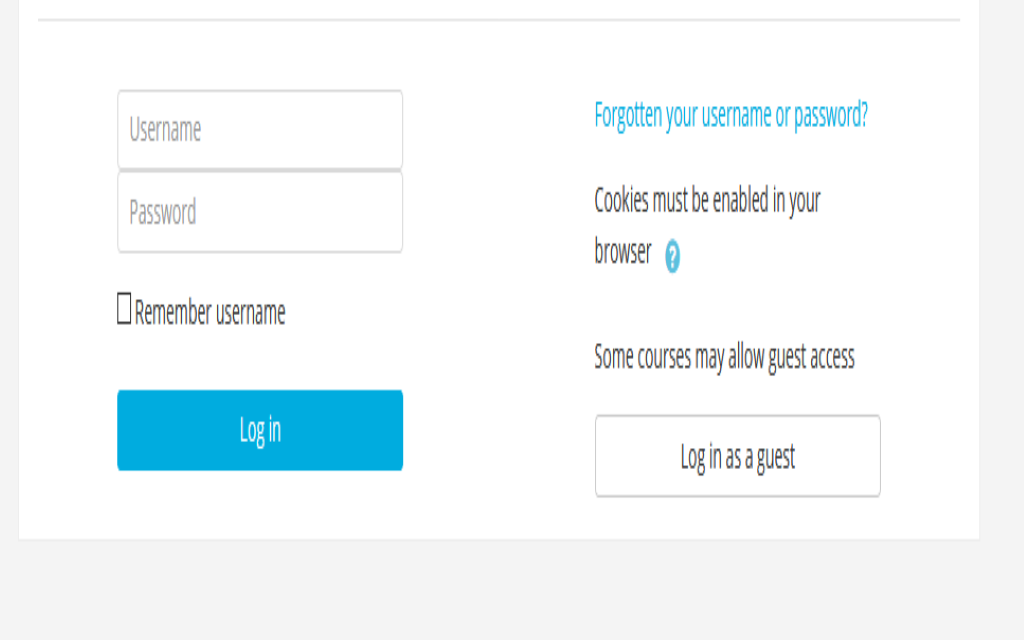button: (593, 413, 880, 497), (117, 388, 406, 470)
checkbox: (113, 293, 131, 325)
checkbox_remember: (114, 290, 292, 335)
label_Login: (233, 409, 288, 451)
label_Username: (127, 111, 207, 147)
label_password: (126, 192, 201, 229)
textbox: (118, 170, 401, 251), (117, 91, 402, 169)
url: (592, 99, 871, 139)
